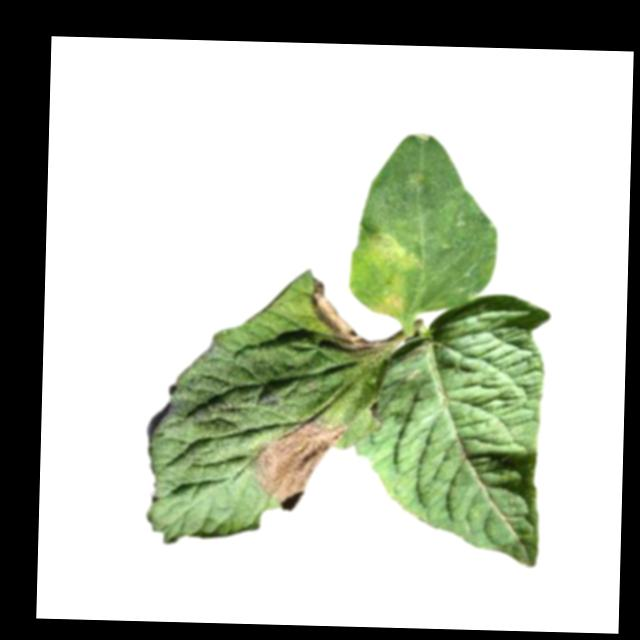Late_blight: (249, 416, 346, 512), (348, 228, 421, 319), (305, 276, 384, 356)
